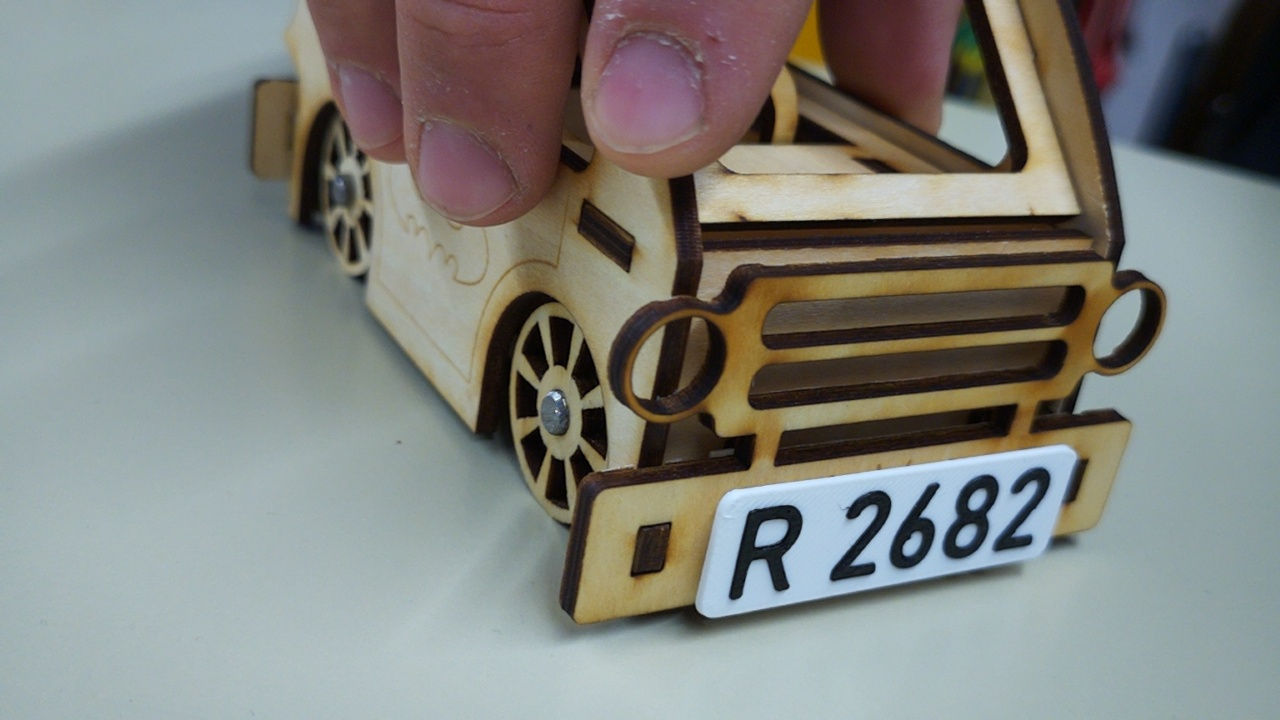license_plate: (688, 441, 1079, 625)
